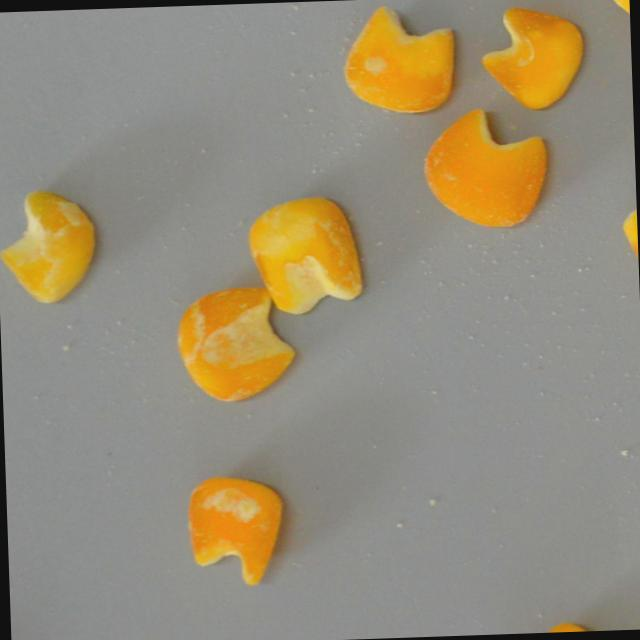dañado: (415, 101, 555, 234), (241, 188, 370, 316), (172, 279, 301, 405), (181, 468, 294, 590), (478, 0, 590, 116), (493, 613, 622, 634), (617, 169, 639, 286), (592, 0, 630, 31)
pelicula: (337, 0, 461, 122), (0, 184, 102, 305)
